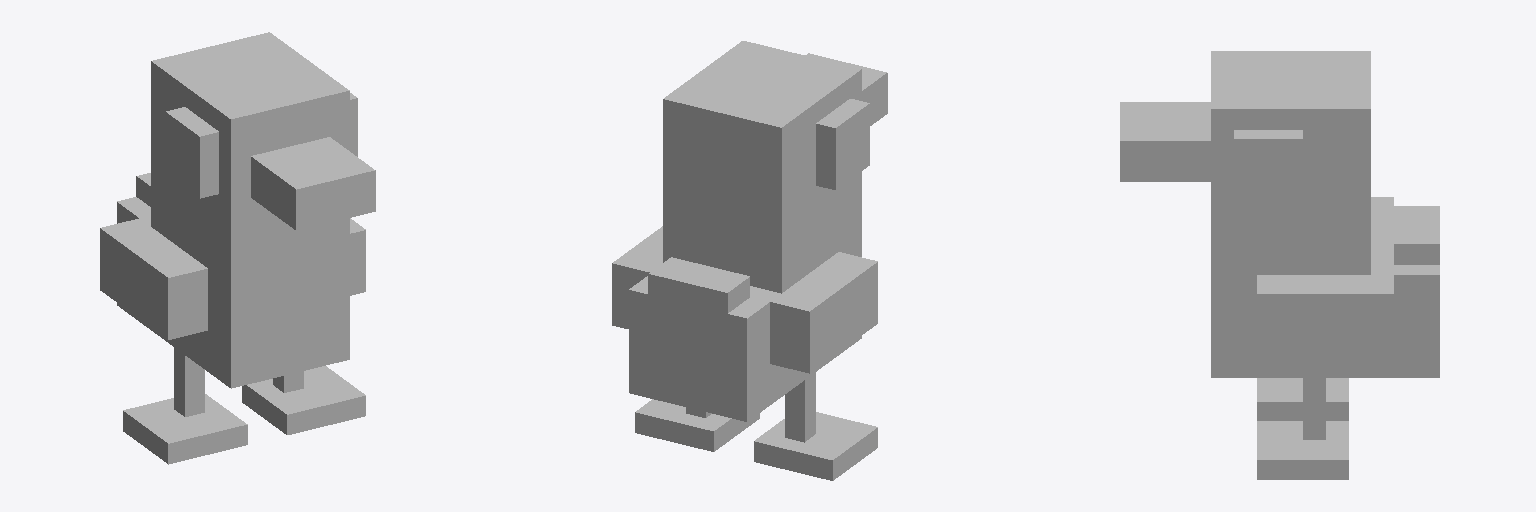
3 renders of one model, left to right at view 1: azimuth 30°, elevation 25°; view 2: azimuth 150°, elevation 25°; view 3: azimuth 270°, elevation 25°, orthographic.
Visible parts, largest first — view 1: Duck; view 2: Duck; view 3: Duck.
Boxes of the visible parts, x1,y1,x2,y2 form: Duck: [100, 32, 375, 464]; Duck: [612, 41, 887, 480]; Duck: [1120, 51, 1439, 479].
Bounding box in the file's own units: 0.5 × 0.85 × 0.7.